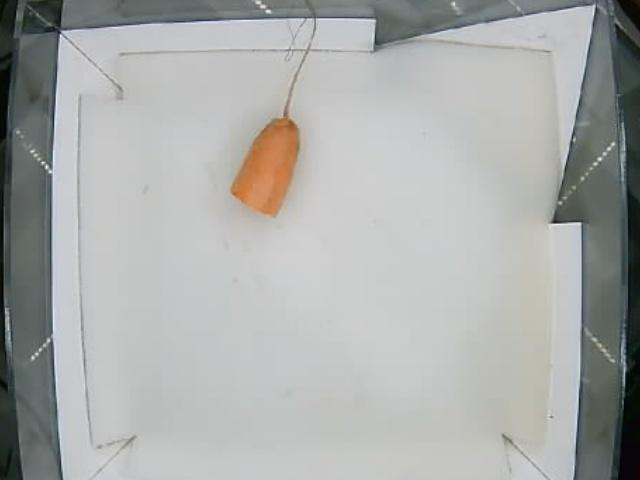Carrot: (224, 115, 316, 214)
